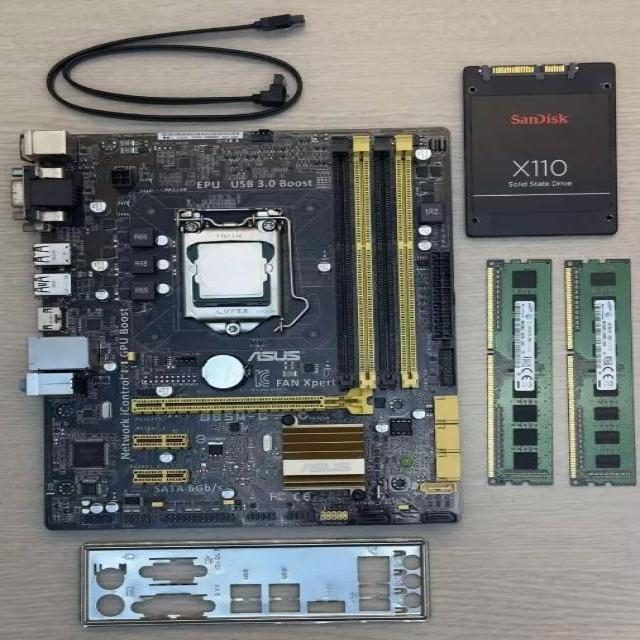CPU: (193, 242, 270, 302)
DISK: (463, 62, 618, 238)
RAM: (564, 258, 638, 487), (487, 258, 554, 486)
